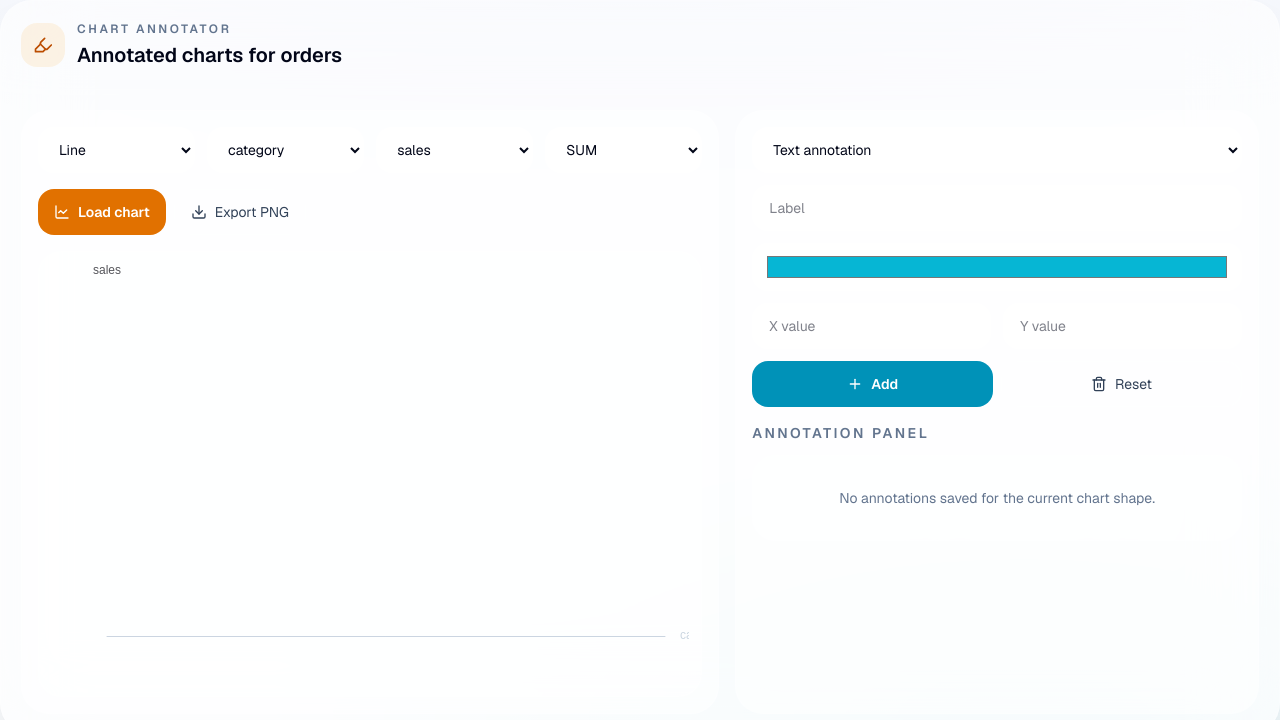
Scenario: ChartAnnotator › shows query failures from DuckDB
Click the button "Load chart": coordinates (102, 212) [38,189,166,235]
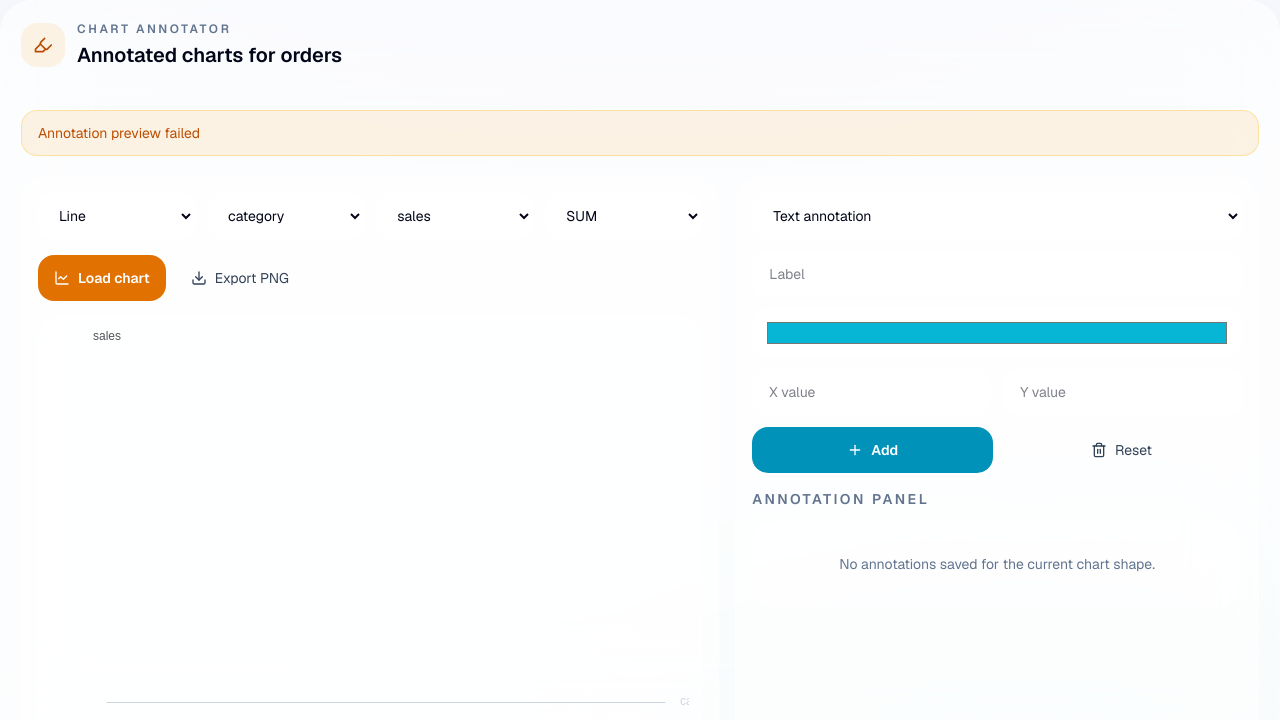
Result: the text "Annotation preview failed" is shown at [21,110,1259,156]
